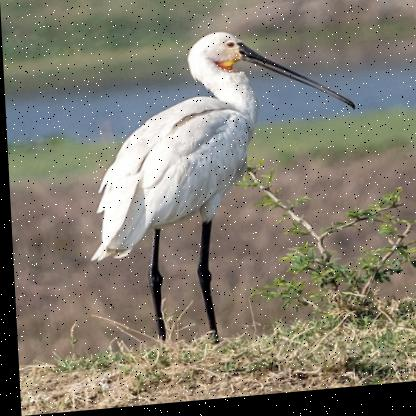Burung: (82, 25, 363, 357)
